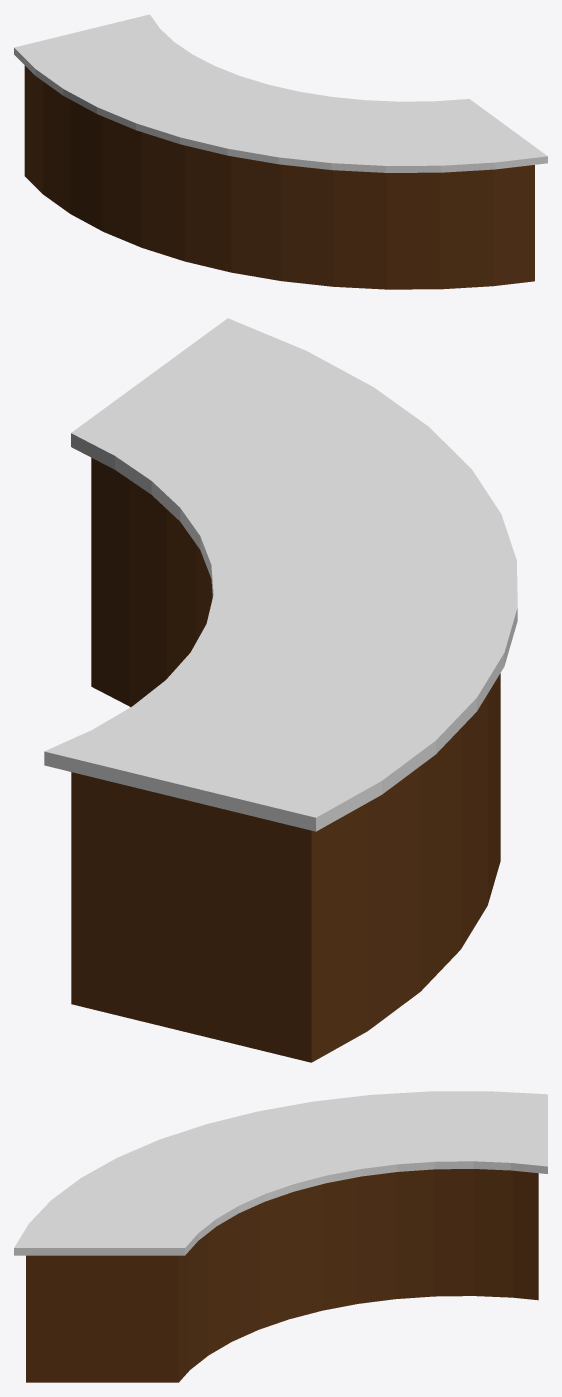
Rendered from Kitchen table 2.fbx.
3 views of the same model, one above another, from view 1: azimuth 30°, elevation 25°; view 2: azimuth 150°, elevation 25°; view 3: azimuth 270°, elevation 25° (orthographic). The views are drawn at different scales.
Parts seen in each view (by area): view 1: Kitchen table 2; view 2: Kitchen table 2; view 3: Kitchen table 2.
Part boxes in pixels (x1=…): Kitchen table 2: x1=14, y1=14, x2=547, y2=289; Kitchen table 2: x1=44, y1=318, x2=517, y2=1062; Kitchen table 2: x1=14, y1=1091, x2=547, y2=1382.
Bounding box in the file's own units: 386 × 159 × 555.
